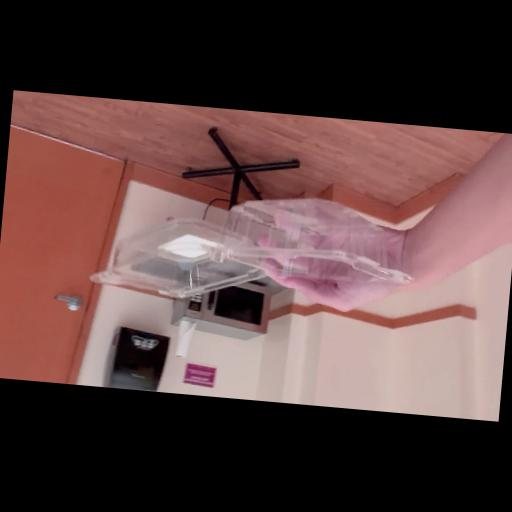small_plastic_container: (80, 174, 443, 329)
